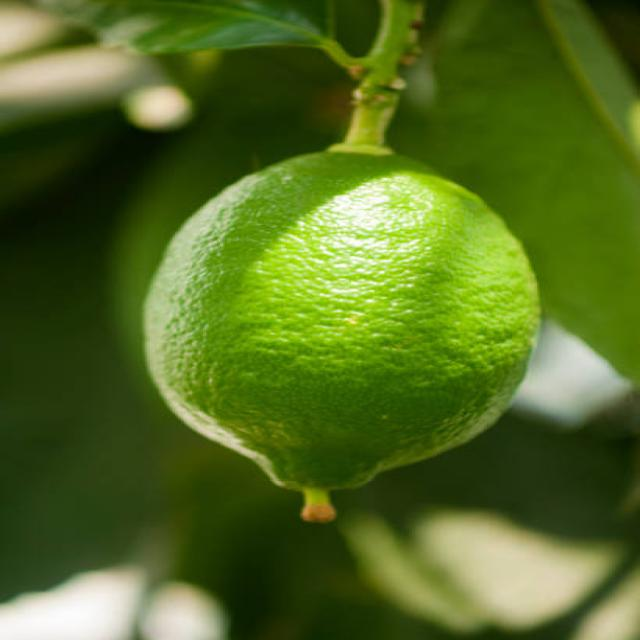Unripe: (142, 151, 542, 493)
